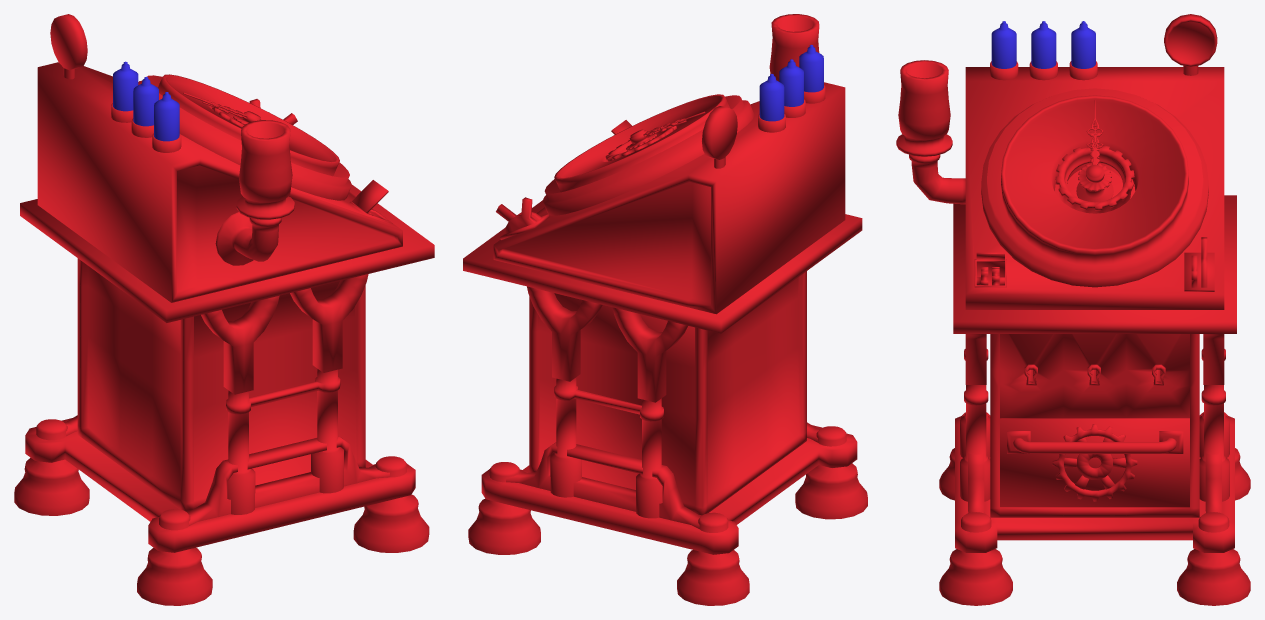
The model's file is SM_HorlogeCentrale.fbx.
3 views of the same model, side by side, from view 1: azimuth 30°, elevation 25°; view 2: azimuth 150°, elevation 25°; view 3: azimuth 270°, elevation 25° (orthographic). The views are drawn at different scales.
Parts seen in each view (by area): view 1: Horloge_Bloc; view 2: Horloge_Bloc, Engrenage_Cadran; view 3: Horloge_Bloc, Tiroir, Engrenage_Cadran, Engrenage_Tiroir.
Part boxes in pixels (box(x1,y1,x2,y2)): Horloge_Bloc: box(14, 14, 434, 605); Horloge_Bloc: box(463, 14, 867, 605); Engrenage_Cadran: box(605, 123, 677, 161); Horloge_Bloc: box(896, 14, 1250, 605); Tiroir: box(1000, 418, 1189, 507); Engrenage_Cadran: box(1055, 144, 1134, 213); Engrenage_Tiroir: box(1052, 424, 1137, 501).
Size of the model in its own units: 74.48 by 123 by 83.63.
